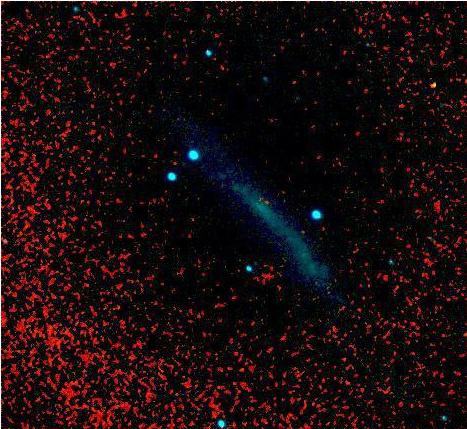star: (419, 68, 449, 98)
